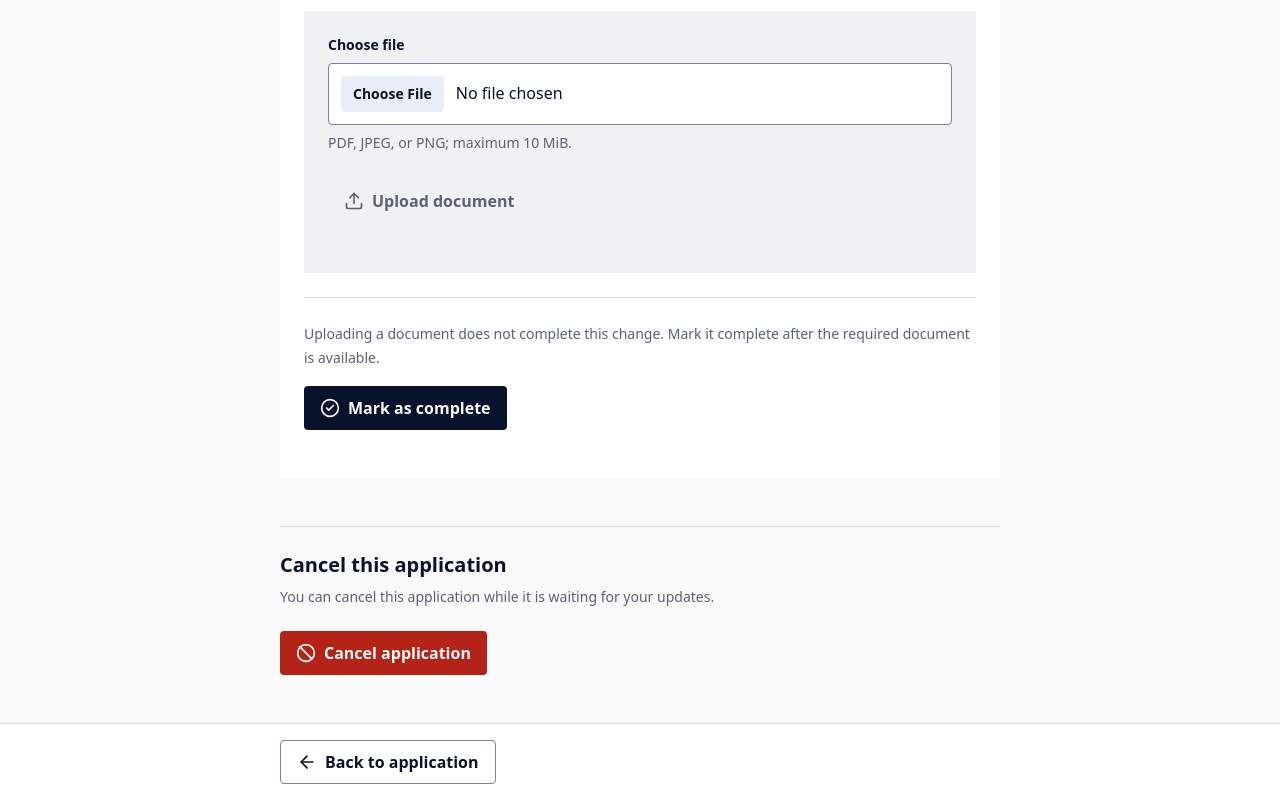
FE-CP8 narrow cancellation › confirms cancellation, reuses its identity after uncertainty, and navigates to returned CANCELLED state
(page scrolled)
What coordinates should you click on to do the following:
click the button "Cancel application"
I would click on:
 (383, 653)
Its box is [280,631,487,675].
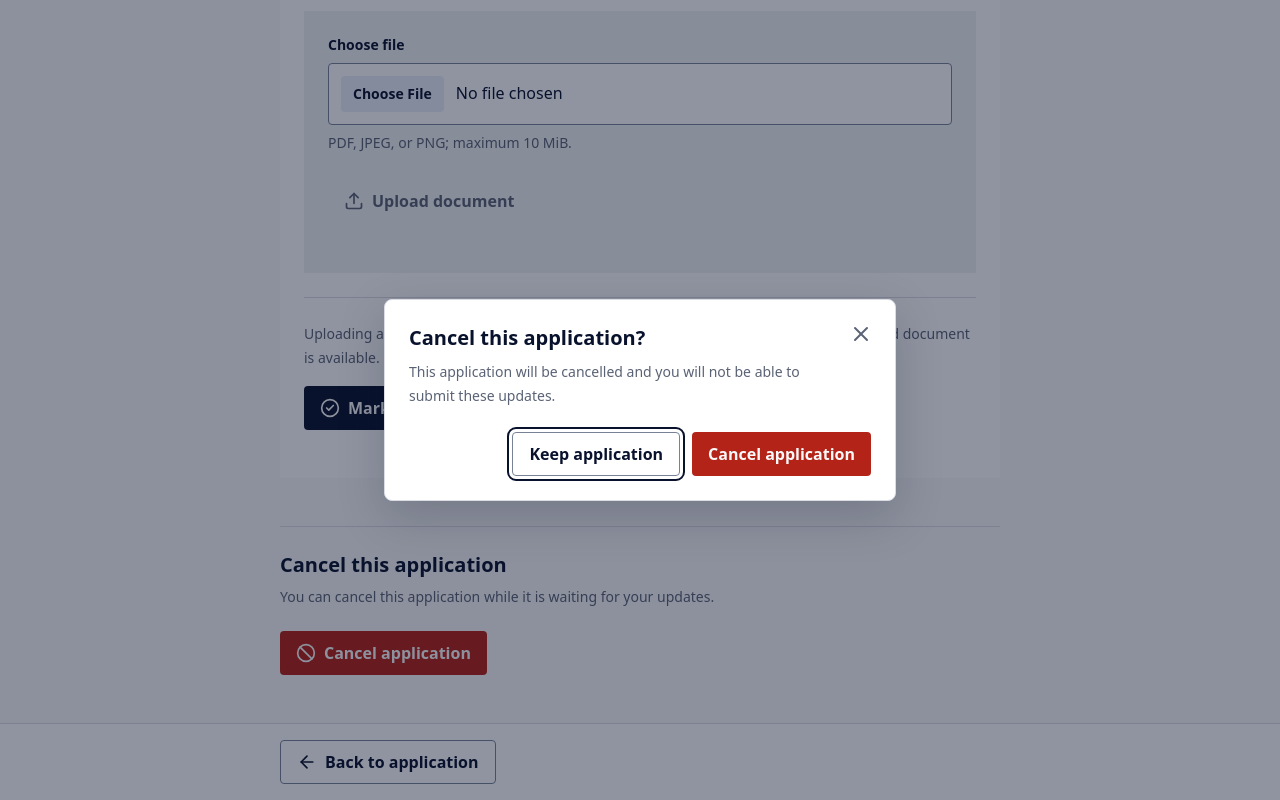
What coordinates should you click on to do the following:
click the button "Cancel application"
I would click on:
 (782, 454)
Its box is [692,432,871,476].
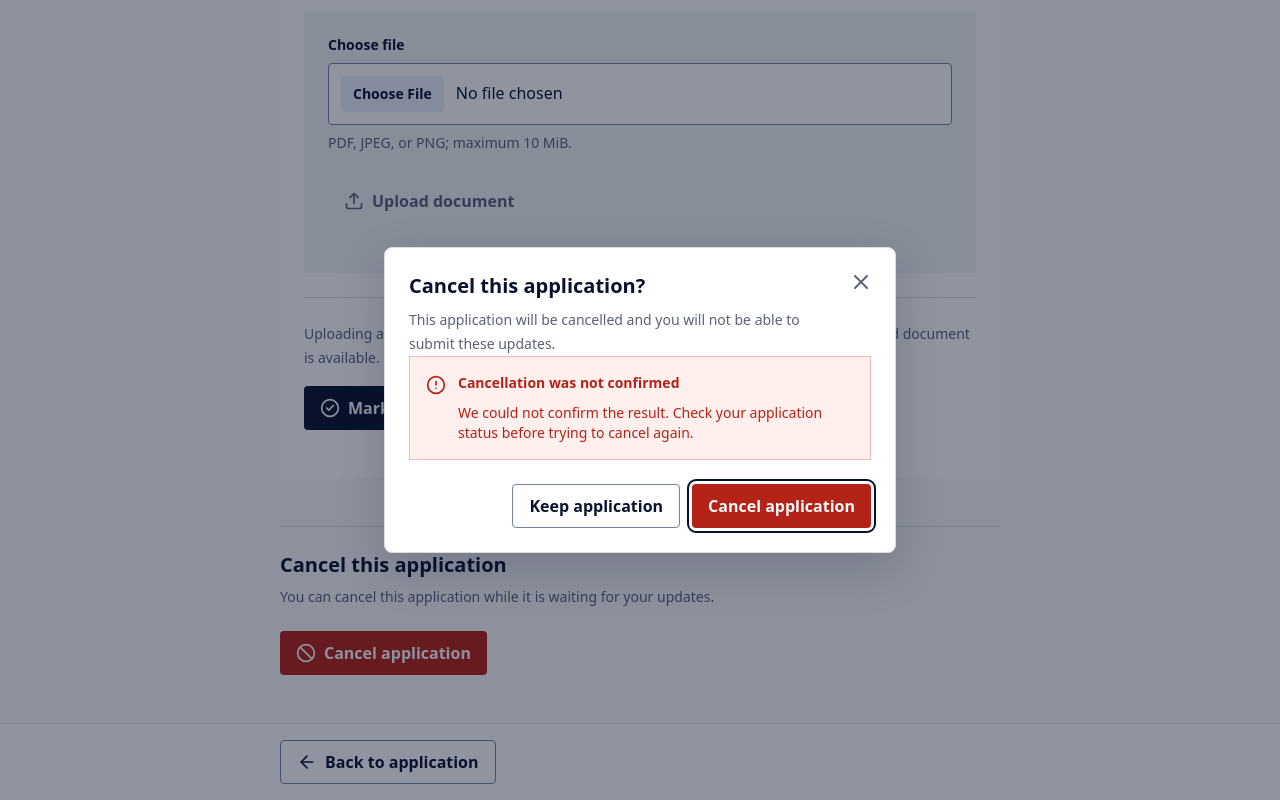
Expected: the text "Check your application status before trying to cancel again" is shown, [458,403,822,442]
What coordinates should you click on to do the following:
click the button "Cancel application"
I would click on:
 (782, 506)
Its box is [692,484,871,528].
(page scrolled)
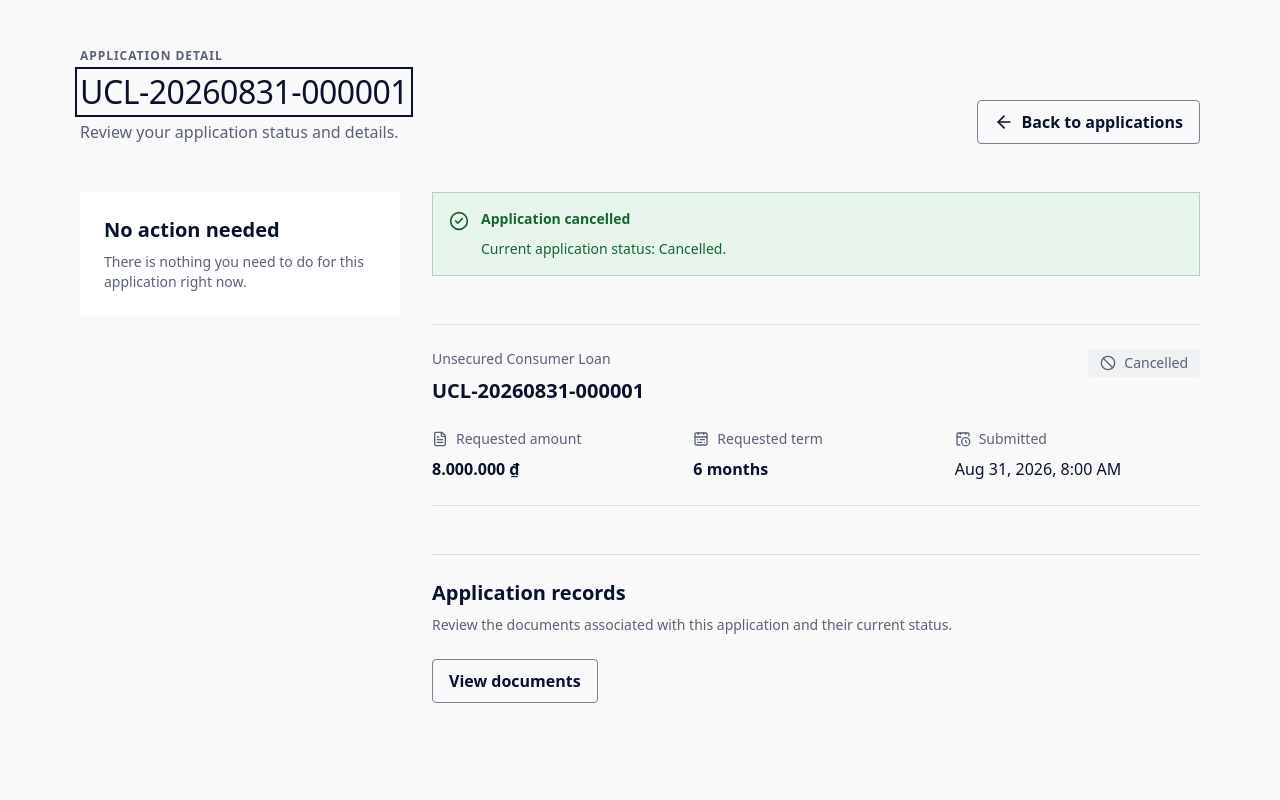
Expected: the heading "Application cancelled" is shown, [481,209,630,228]
Expected: the text "Current application status: Cancelled." is shown, [481,239,726,258]
